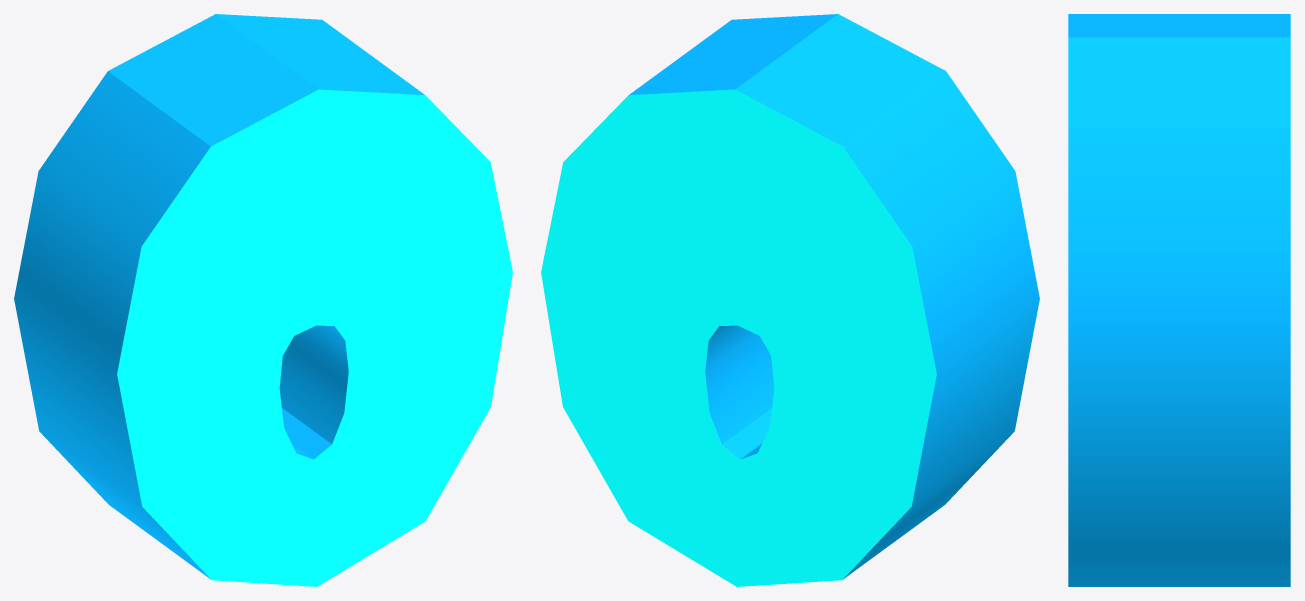
3 views of the same model, side by side, from view 1: azimuth 30°, elevation 25°; view 2: azimuth 150°, elevation 25°; view 3: azimuth 270°, elevation 25° (orthographic). The views are drawn at different scales.
Visible parts, largest first — view 1: o; view 2: o; view 3: o.
Part boxes in pixels (x1,y1,x2,y2): o: (14, 14, 512, 586); o: (541, 14, 1039, 586); o: (1068, 14, 1290, 586).
Size of what is drawn, in the model's own units: 0.3992 by 0.479 by 0.18.
